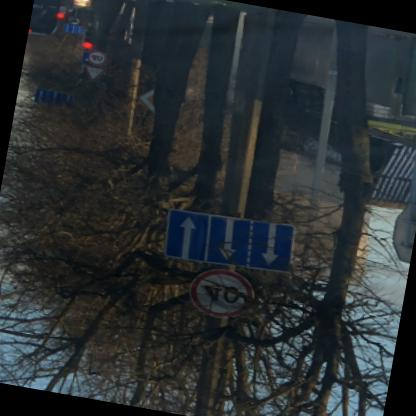speedlimit: (184, 264, 256, 323), (88, 50, 104, 64)
trafficlight: (78, 32, 93, 50)
